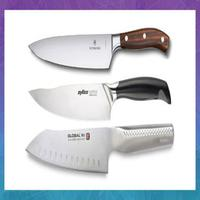knife: (16, 121, 184, 175), (20, 75, 179, 123), (21, 21, 173, 69)
